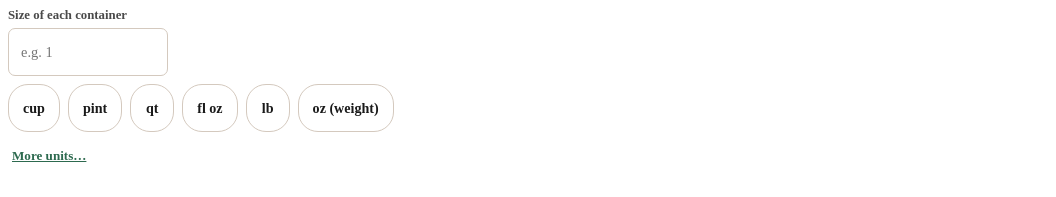
Test: AmountField — the control › More units… opens the rest in the same group, and goes
The image size is (1056, 197).
What coordinates should you click on to do the following:
click the button with test id "t-unit-more"
I would click on:
 (49, 156)
Its box is [8, 132, 90, 180].
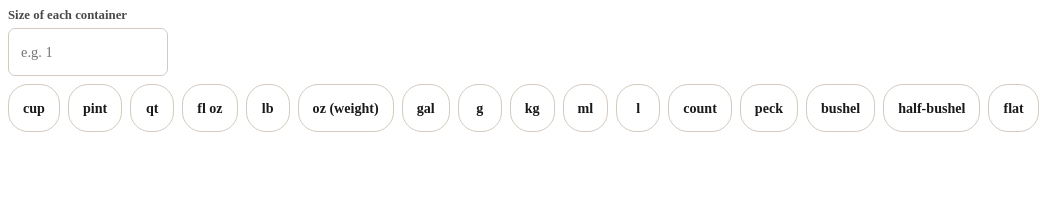
Check: the button with test id "t-unit-more" is gone
